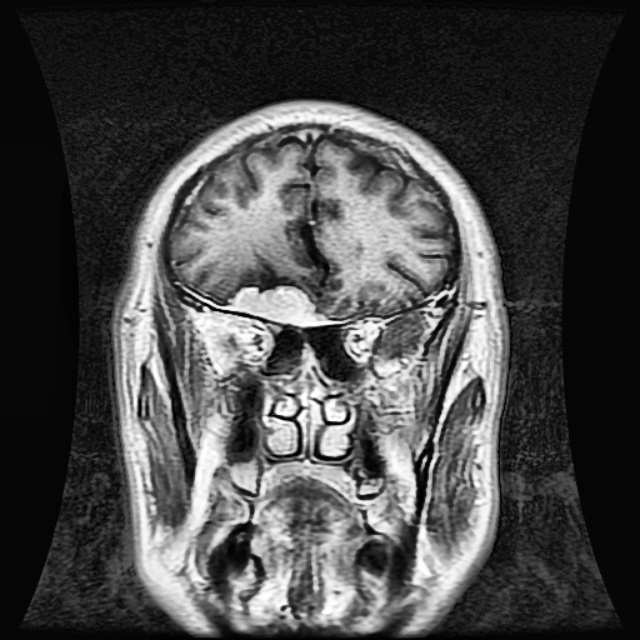Glioma: (227, 285, 324, 320)
